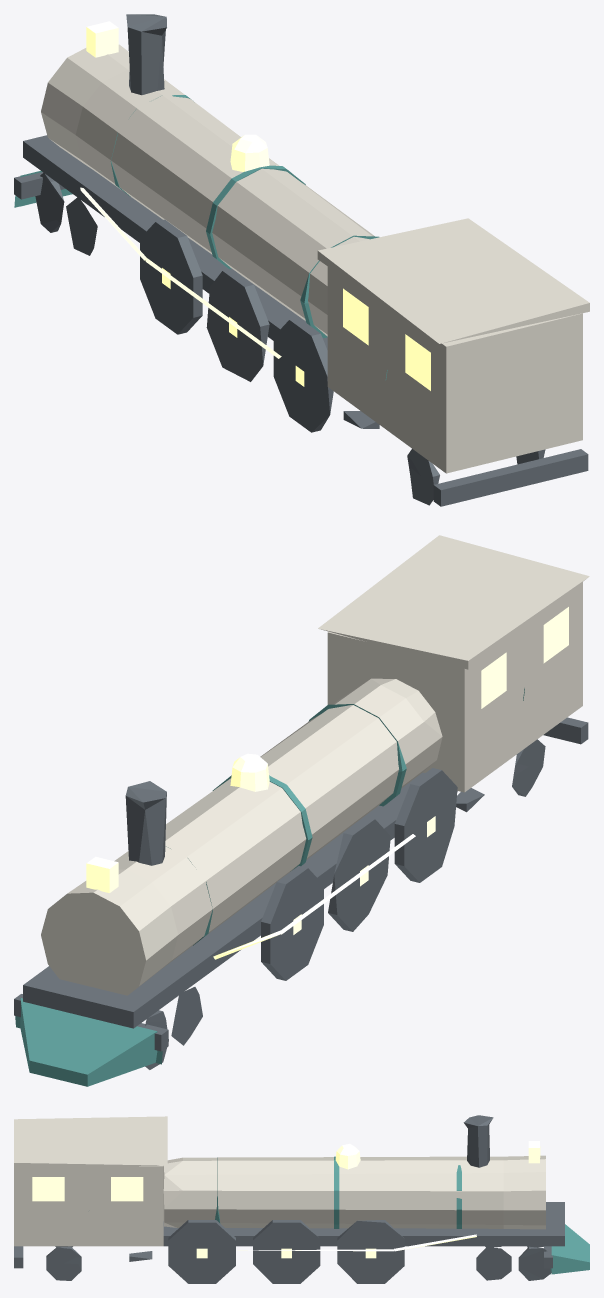
File: 67-Vehiculos_gran_vapor.glb
The picture shows the model from 3 angles, top to bottom: view 1: azimuth 30°, elevation 25°; view 2: azimuth 150°, elevation 25°; view 3: azimuth 270°, elevation 25°; orthographic projection. The views are drawn at different scales.
Visible parts, largest first — view 1: SM_Vapor_M_Vapor_Marfil, SM_Vapor_M_Vapor_Hierro, SM_Vapor_M_Vapor_Laton, SM_Vapor_M_Vapor_Verde; view 2: SM_Vapor_M_Vapor_Marfil, SM_Vapor_M_Vapor_Hierro, SM_Vapor_M_Vapor_Verde, SM_Vapor_M_Vapor_Laton; view 3: SM_Vapor_M_Vapor_Marfil, SM_Vapor_M_Vapor_Hierro, SM_Vapor_M_Vapor_Laton, SM_Vapor_M_Vapor_Verde.
Boxes of the visible parts, x1,y1,x2,y2 form: SM_Vapor_M_Vapor_Marfil: [41, 44, 589, 473]; SM_Vapor_M_Vapor_Hierro: [14, 14, 588, 506]; SM_Vapor_M_Vapor_Laton: [80, 21, 430, 390]; SM_Vapor_M_Vapor_Verde: [14, 95, 387, 380]; SM_Vapor_M_Vapor_Marfil: [41, 535, 589, 995]; SM_Vapor_M_Vapor_Hierro: [14, 717, 588, 1069]; SM_Vapor_M_Vapor_Verde: [15, 688, 524, 1086]; SM_Vapor_M_Vapor_Laton: [86, 607, 568, 959]; SM_Vapor_M_Vapor_Marfil: [14, 1116, 545, 1246]; SM_Vapor_M_Vapor_Hierro: [14, 1115, 564, 1283]; SM_Vapor_M_Vapor_Laton: [32, 1141, 540, 1258]; SM_Vapor_M_Vapor_Verde: [215, 1156, 589, 1274].
Size of the model in its own units: 2.86 by 4.13 by 15.
